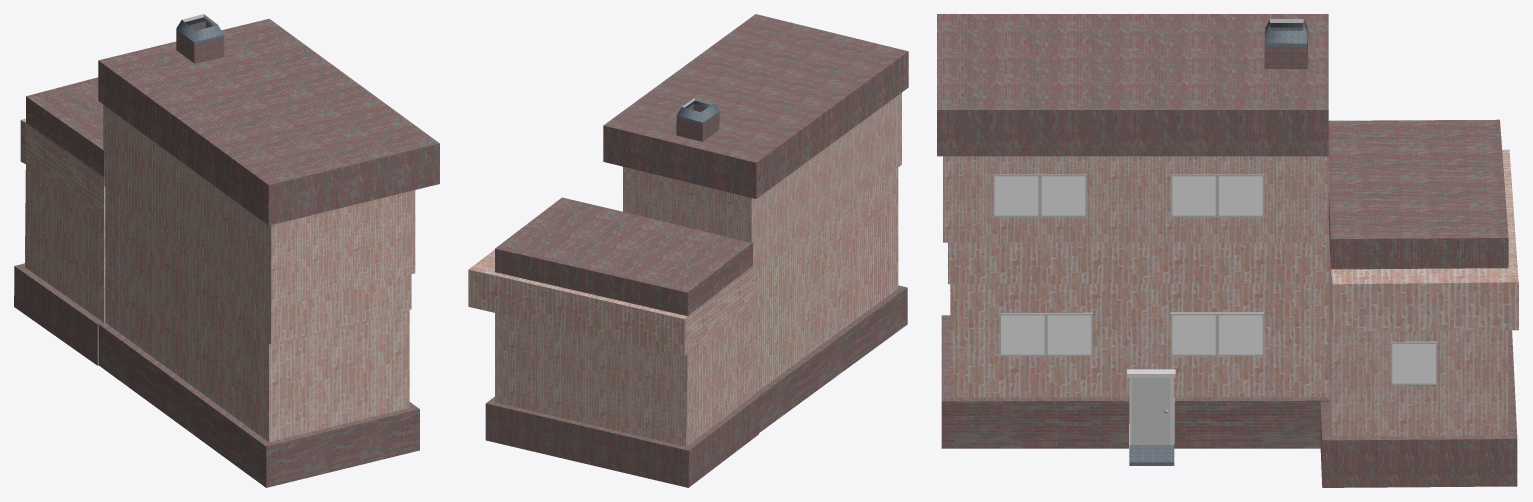
The model's file is Building_FOUR_NEW_WINDOWS_VAL.fbx.
The picture shows the model from 3 angles, left to right: view 1: azimuth 30°, elevation 25°; view 2: azimuth 150°, elevation 25°; view 3: azimuth 270°, elevation 25°; orthographic projection. The views are drawn at different scales.
Parts seen in each view (by area): view 1: roof, pCube1, pCube2, pCube3; view 2: pCube2, roof, pCube1, pCube3; view 3: roof, pCube1, pCube2, windows2 (×4), windows1 (×4), door6, pCube3, windows, pCube4.
Boxes of the visible parts, x1,y1,x2,y2 form: roof: (98,18,439,308); pCube1: (97,187,419,487); pCube2: (14,77,105,365); pCube3: (176,14,224,63); pCube2: (468,197,758,487); roof: (603,14,908,273); pCube1: (752,168,907,432); pCube3: (676,97,719,141); roof: (937,14,1328,242); pCube1: (941,235,1329,448); pCube2: (1320,119,1518,487); windows2 (×4): (993,174,1217,356); windows1 (×4): (1040,174,1264,356); door6: (1129,378,1173,444); pCube3: (1264,19,1307,69); windows: (1390,341,1437,384); pCube4: (1129,443,1174,465).
Bounding box in the file's own units: 7.47 × 9.75 × 13.34.
